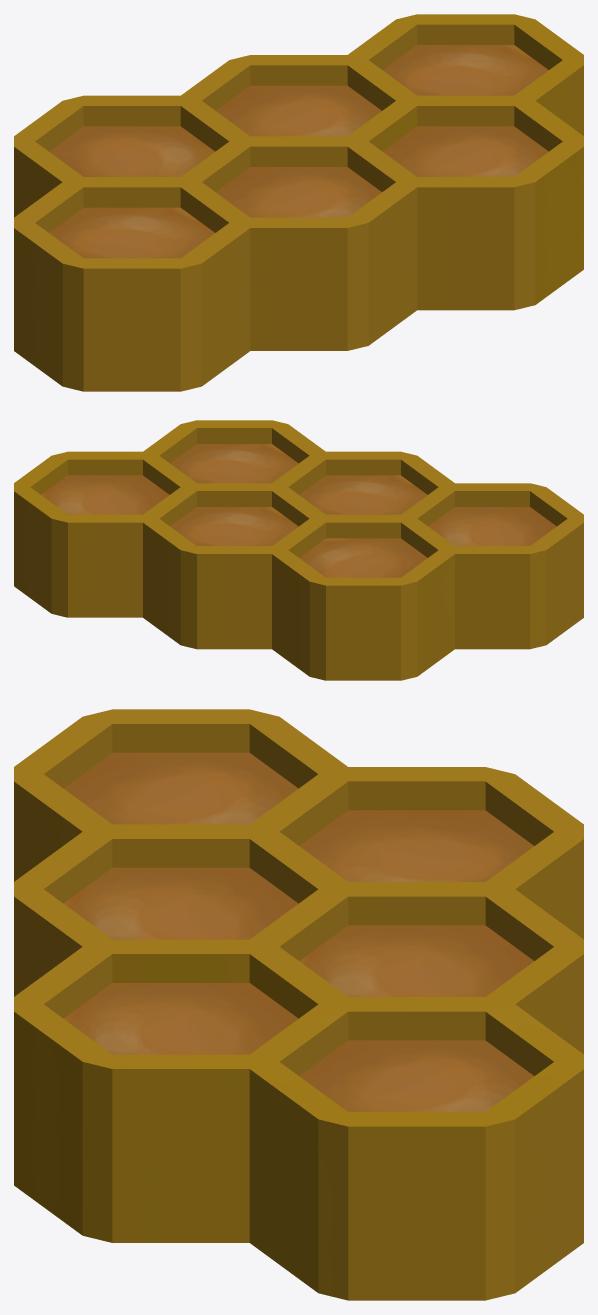
The model's file is model_favomel_01.fbx.
3 views of the same model, one above another, from view 1: azimuth 30°, elevation 25°; view 2: azimuth 150°, elevation 25°; view 3: azimuth 270°, elevation 25° (orthographic). The views are drawn at different scales.
Visible parts, largest first — view 1: Favo de Mel1.004; view 2: Favo de Mel1.004; view 3: Favo de Mel1.004.
Boxes of the visible parts, <box> form: Favo de Mel1.004: <box>14,14,583,391</box>; Favo de Mel1.004: <box>14,420,583,680</box>; Favo de Mel1.004: <box>14,709,583,1300</box>.
Size of the model in its own units: 0.9817 by 0.1909 by 0.5668.
1 material, 1 textured.
